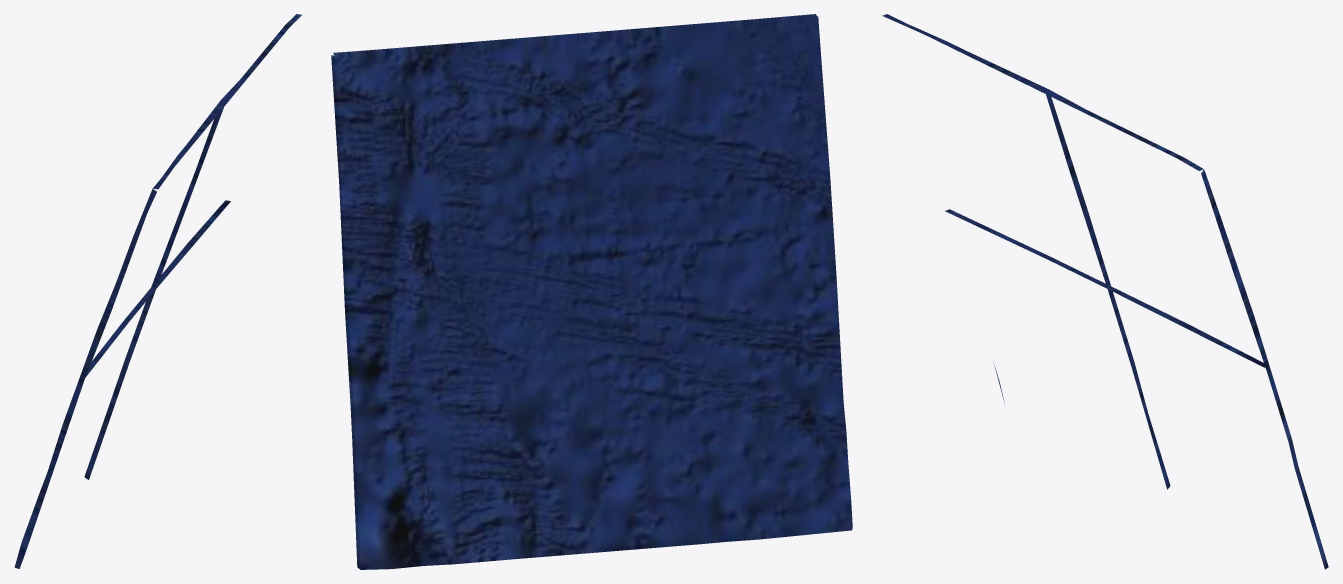
The picture shows the model from 3 angles, left to right: view 1: azimuth 30°, elevation 25°; view 2: azimuth 150°, elevation 25°; view 3: azimuth 270°, elevation 25°; orthographic projection. The views are drawn at different scales.
Bounding box in the file's own units: 293582 × 300382 × 272959.
Materials: 1 (1 with a texture image).
